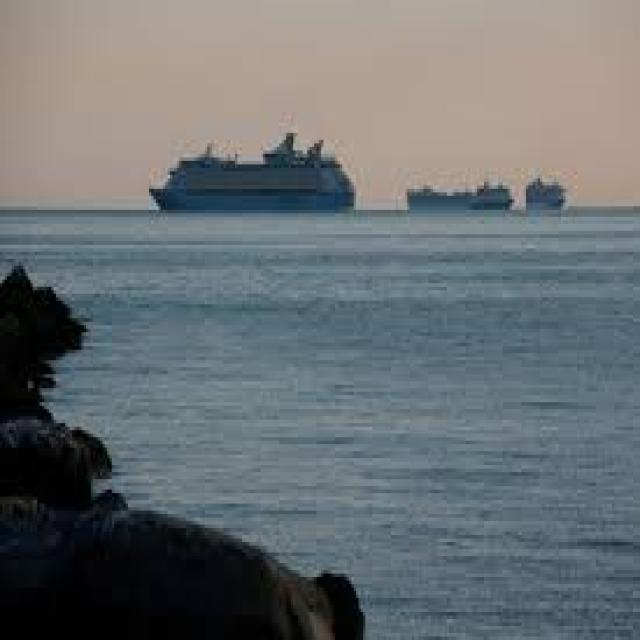cargoship: (153, 118, 366, 226), (398, 154, 512, 219), (520, 163, 564, 224)
